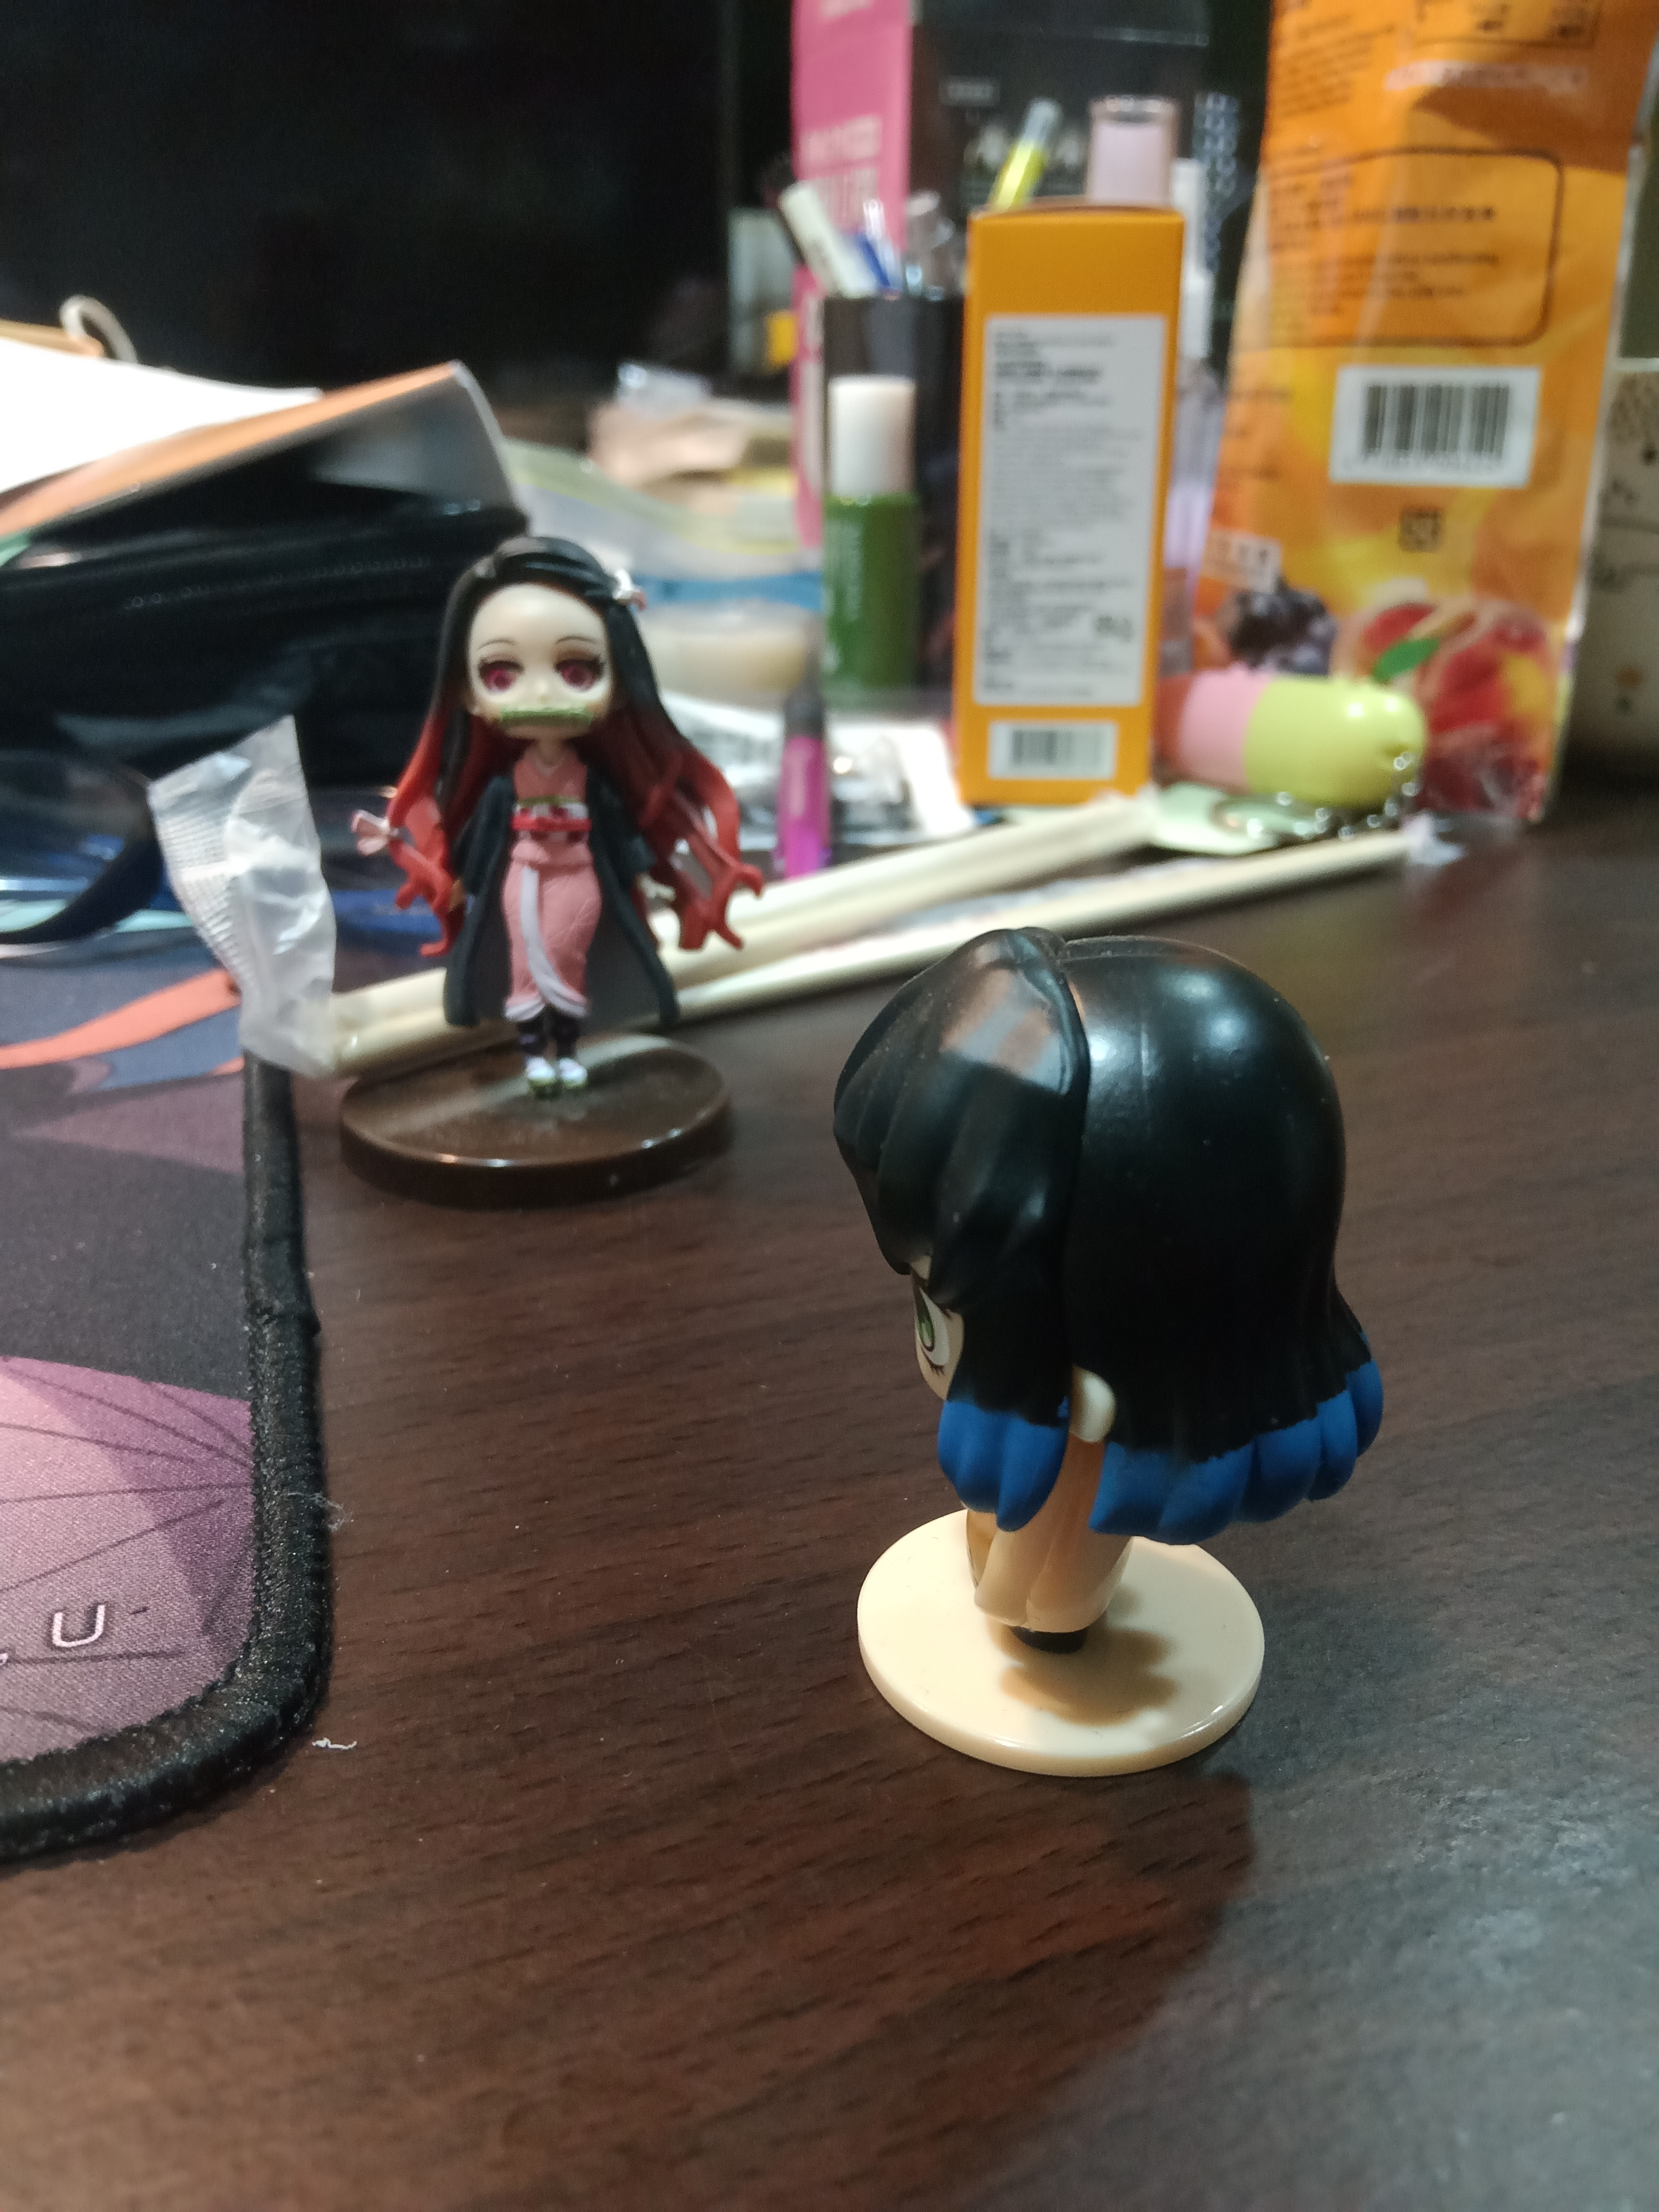Inosuke: (819, 921, 1399, 1799)
Nezuko: (317, 529, 784, 1212)
